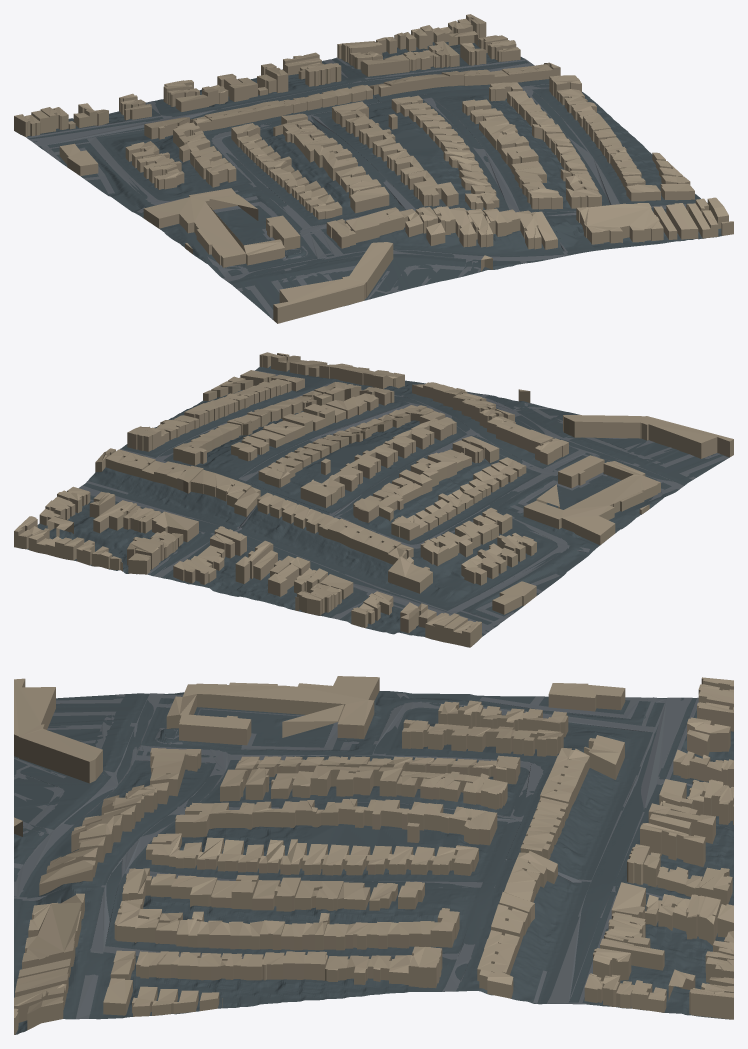
File: epsg26910-1429-10889.lod0.glb
The picture shows the model from 3 angles, top to bottom: view 1: azimuth 30°, elevation 25°; view 2: azimuth 150°, elevation 25°; view 3: azimuth 270°, elevation 25°; orthographic projection. The views are drawn at different scales.
Visible parts, largest first — view 1: epsg26910-1429-10889-lod0; view 2: epsg26910-1429-10889-lod0; view 3: epsg26910-1429-10889-lod0.
Boxes of the visible parts, x1,y1,x2,y2 form: epsg26910-1429-10889-lod0: (14,14,733,323); epsg26910-1429-10889-lod0: (14,352,733,647); epsg26910-1429-10889-lod0: (14,676,733,1034).
Size of the model in its own units: 384 by 47.59 by 384.
